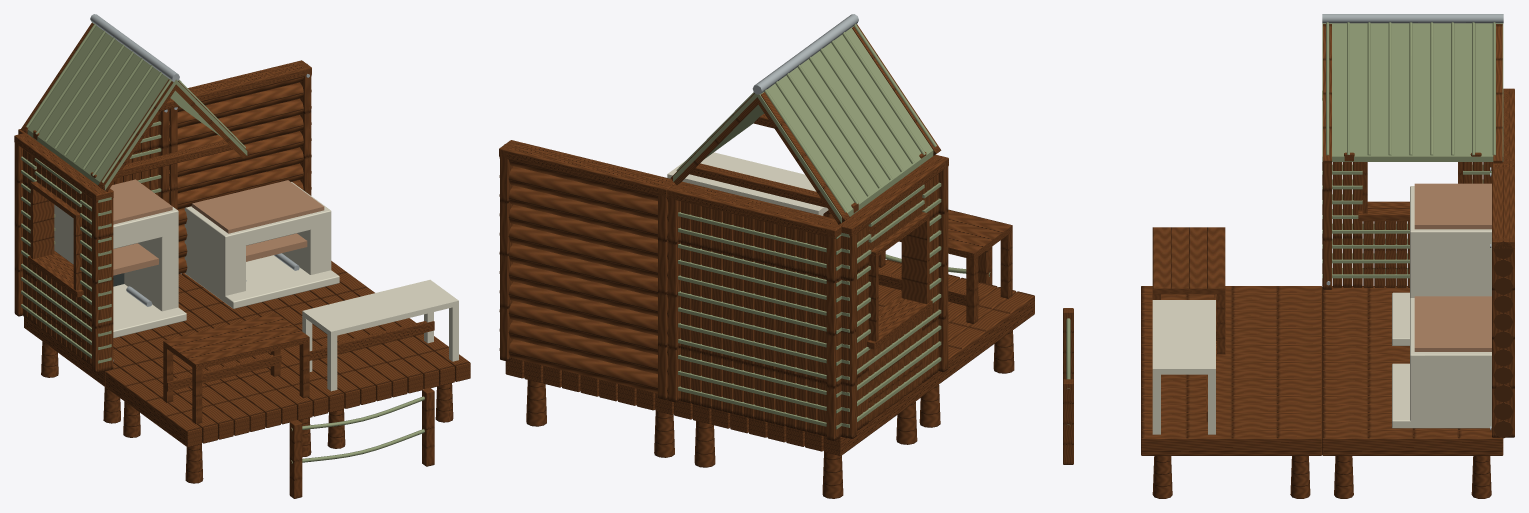
The model's file is prehistoric_survivor_settlement_starter_scene.glb.
The picture shows the model from 3 angles, left to right: view 1: azimuth 30°, elevation 25°; view 2: azimuth 150°, elevation 25°; view 3: azimuth 270°, elevation 25°; orthographic projection. The views are drawn at different scales.
Parts seen in each view (by area): view 1: 005-log-wall/0, 006-woven-window-wall/0, 007-thatch-gable-roof/0, 001-raised-pole-platform/0, 008-communal-fire-hearth/0, 003-raised-pole-platform/0, 011-hide-working-table/0, 009-clay-baking-oven/0, 010-stone-cooking-counter/0, 000-raised-pole-platform/0, 008-communal-fire-hearth/3, 002-raised-pole-platform/0 (+8 smaller); view 2: 005-log-wall/0, 004-woven-wall/0, 006-woven-window-wall/0, 007-thatch-gable-roof/0, 004-woven-wall/1, 001-raised-pole-platform/0, 000-raised-pole-platform/0, 007-thatch-gable-roof/1, 002-raised-pole-platform/0, 011-hide-working-table/0, 006-woven-window-wall/1, 010-stone-cooking-counter/0 (+1 smaller); view 3: 007-thatch-gable-roof/0, 003-raised-pole-platform/0, 002-raised-pole-platform/0, 001-raised-pole-platform/0, 006-woven-window-wall/0, 008-communal-fire-hearth/0, 009-clay-baking-oven/0, 005-log-wall/0, 010-stone-cooking-counter/0, 000-raised-pole-platform/0, 011-hide-working-table/0, 008-communal-fire-hearth/3 (+6 smaller).
Boxes of the visible parts, x1=… form: 005-log-wall/0: x1=169, y1=60, x2=311, y2=273; 006-woven-window-wall/0: x1=14, y1=133, x2=113, y2=372; 007-thatch-gable-roof/0: x1=26, y1=22, x2=247, y2=190; 001-raised-pole-platform/0: x1=106, y1=352, x2=328, y2=483; 008-communal-fire-hearth/0: x1=184, y1=182, x2=339, y2=308; 003-raised-pole-platform/0: x1=268, y1=318, x2=470, y2=448; 011-hide-working-table/0: x1=163, y1=313, x2=309, y2=424; 009-clay-baking-oven/0: x1=54, y1=204, x2=186, y2=338; 010-stone-cooking-counter/0: x1=302, y1=279, x2=458, y2=391; 000-raised-pole-platform/0: x1=24, y1=288, x2=228, y2=423; 008-communal-fire-hearth/3: x1=191, y1=180, x2=324, y2=261; 002-raised-pole-platform/0: x1=178, y1=261, x2=374, y2=325; 005-log-wall/0: x1=499, y1=140, x2=674, y2=399; 004-woven-wall/0: x1=667, y1=181, x2=845, y2=440; 006-woven-window-wall/0: x1=833, y1=154, x2=948, y2=438; 007-thatch-gable-roof/0: x1=673, y1=23, x2=936, y2=222; 004-woven-wall/1: x1=678, y1=212, x2=841, y2=429; 001-raised-pole-platform/0: x1=878, y1=259, x2=1034, y2=427; 000-raised-pole-platform/0: x1=674, y1=372, x2=937, y2=498; 007-thatch-gable-roof/1: x1=670, y1=24, x2=941, y2=224; 002-raised-pole-platform/0: x1=505, y1=358, x2=674, y2=457; 011-hide-working-table/0: x1=878, y1=209, x2=1012, y2=323; 006-woven-window-wall/1: x1=841, y1=182, x2=941, y2=427; 010-stone-cooking-counter/0: x1=667, y1=152, x2=828, y2=215; 007-thatch-gable-roof/0: x1=1322, y1=22, x2=1503, y2=161; 003-raised-pole-platform/0: x1=1141, y1=362, x2=1322, y2=498; 002-raised-pole-platform/0: x1=1322, y1=362, x2=1503, y2=498; 001-raised-pole-platform/0: x1=1141, y1=286, x2=1322, y2=363; 006-woven-window-wall/0: x1=1322, y1=162, x2=1491, y2=289; 008-communal-fire-hearth/0: x1=1392, y1=298, x2=1491, y2=428; 009-clay-baking-oven/0: x1=1392, y1=186, x2=1491, y2=345; 005-log-wall/0: x1=1492, y1=165, x2=1514, y2=438; 010-stone-cooking-counter/0: x1=1152, y1=300, x2=1215, y2=434; 000-raised-pole-platform/0: x1=1322, y1=286, x2=1409, y2=362; 011-hide-working-table/0: x1=1152, y1=227, x2=1225, y2=354; 008-communal-fire-hearth/3: x1=1414, y1=296, x2=1491, y2=351.
Size of the model in its own units: 4.16 by 4.57 by 4.99.
6 materials, 1 textured.
